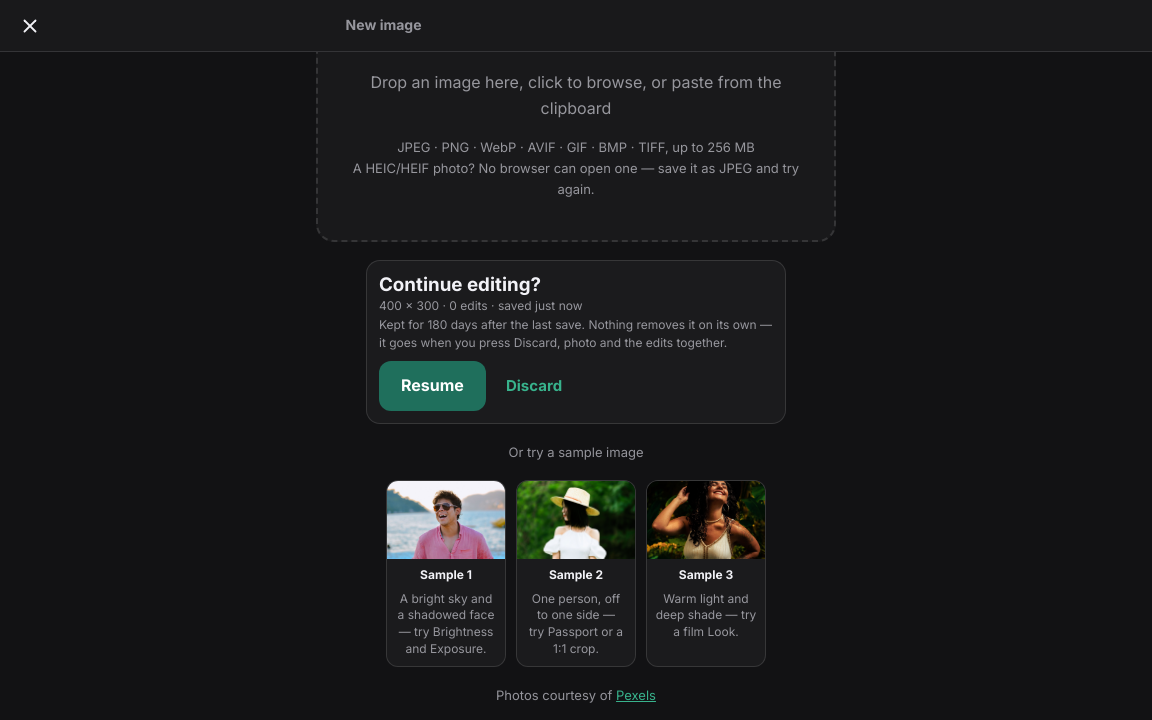
Test: the session the editor offers › restores the document, the pixels and the file name
The width and height of the screenshot is (1152, 720).
(page scrolled)
Step 1. Click the button "Resume" → (432, 386), box 379,361 -> 486,411
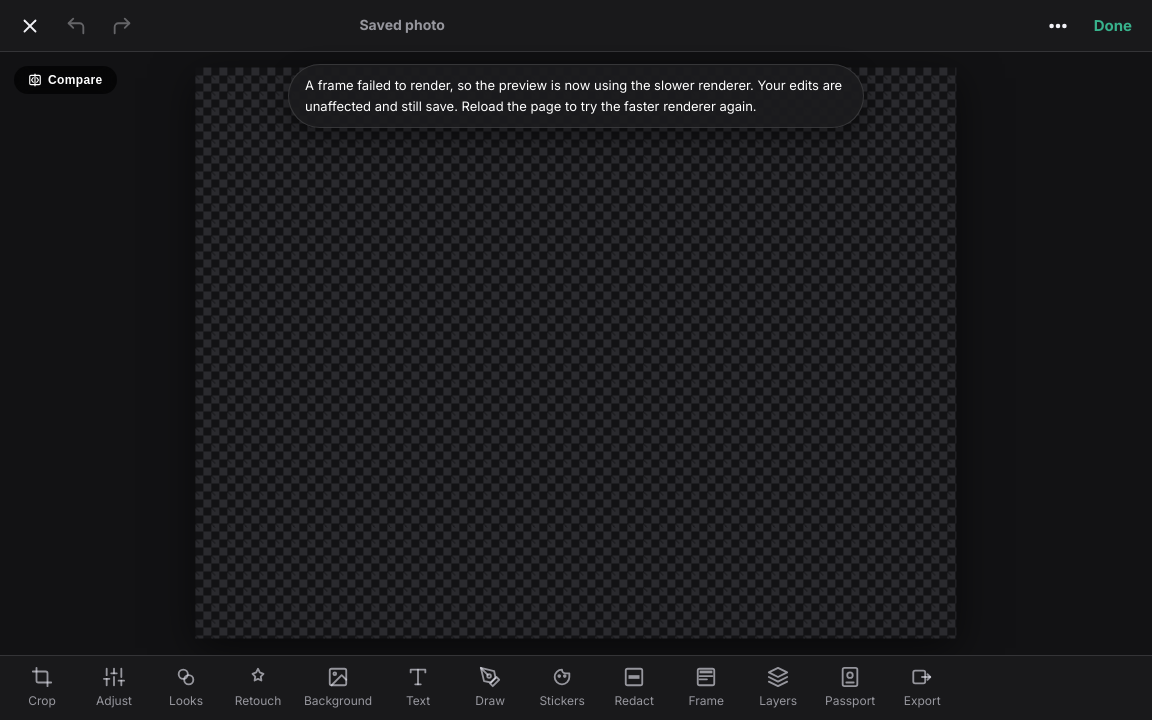
Result: the text "Saved photo" is shown at 359,16 -> 445,33
